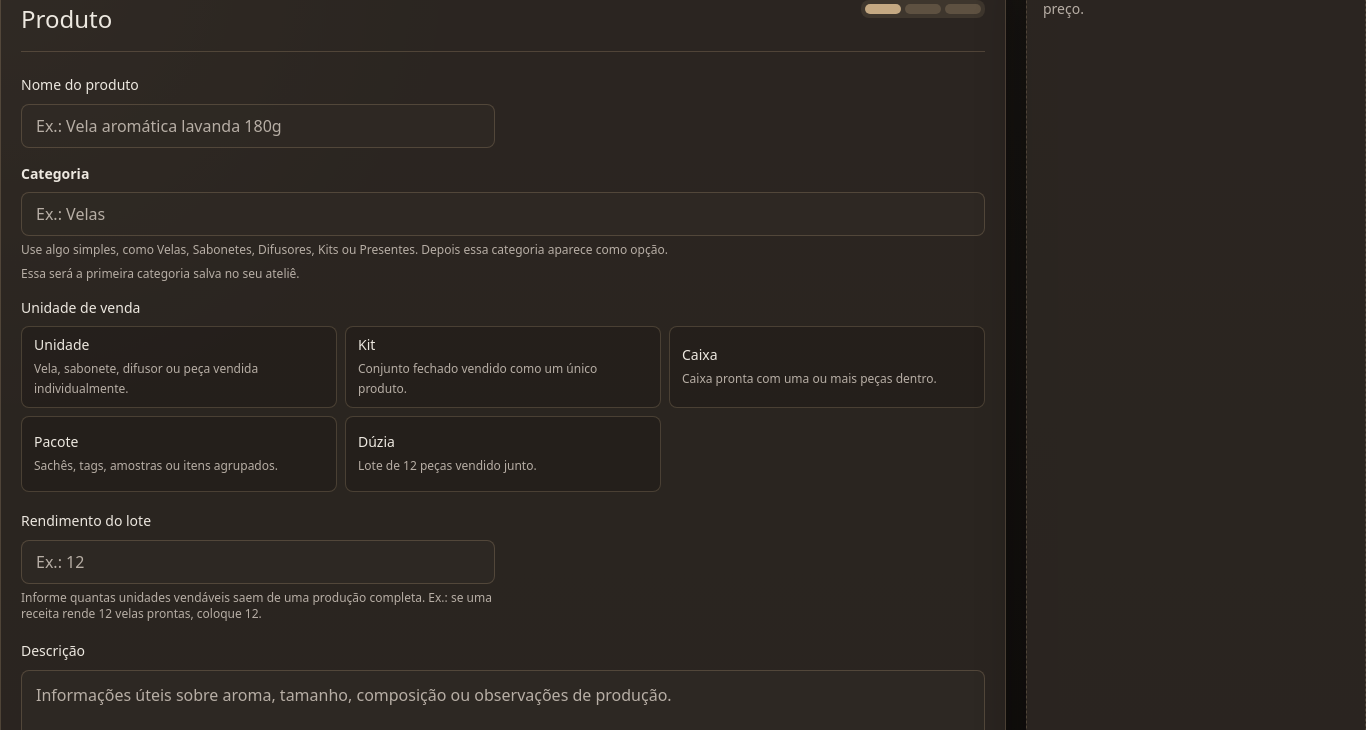
Test: ProductForm › moves from product basics to costs when required fields are complete
Type "Vela teste" into the field labelled "Nome do produto" at (258, 126), box [21,104,495,148]
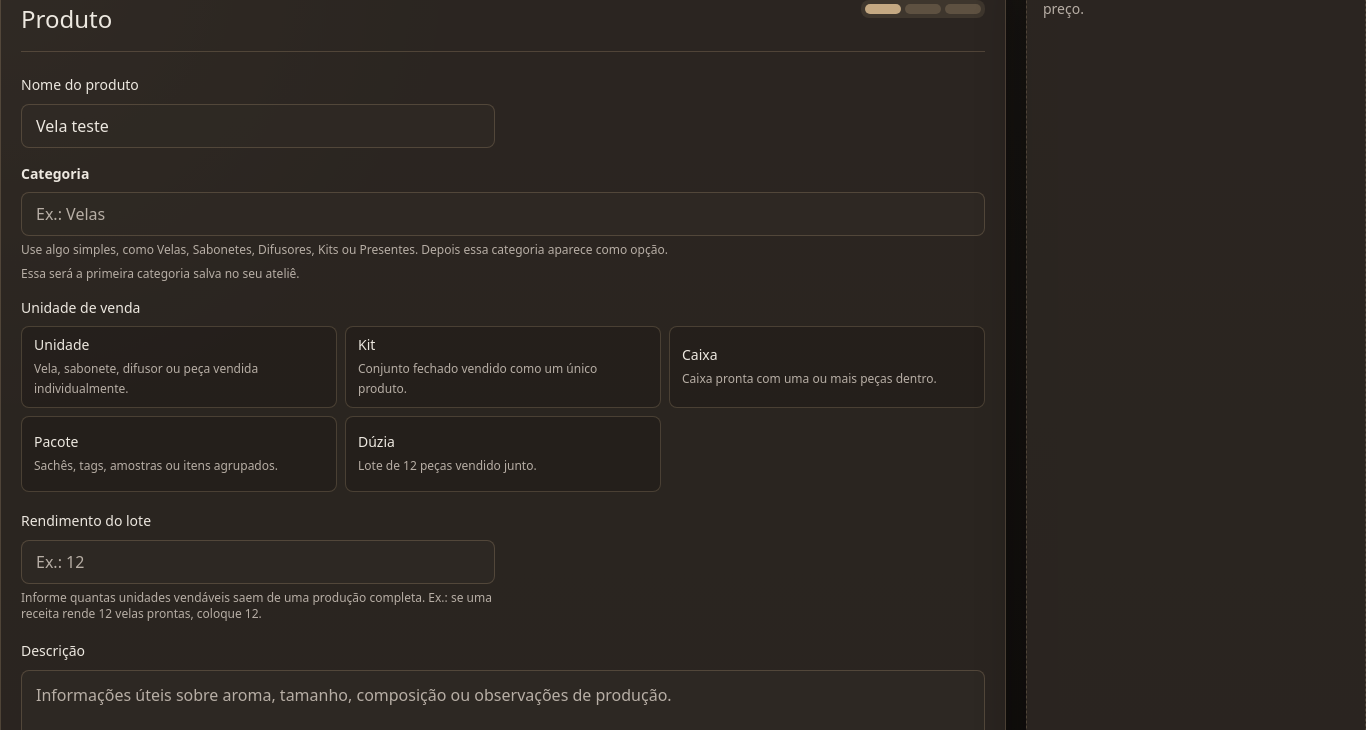
Click the radio button labelled "Unidade" at (179, 367), box [21,326,337,408]
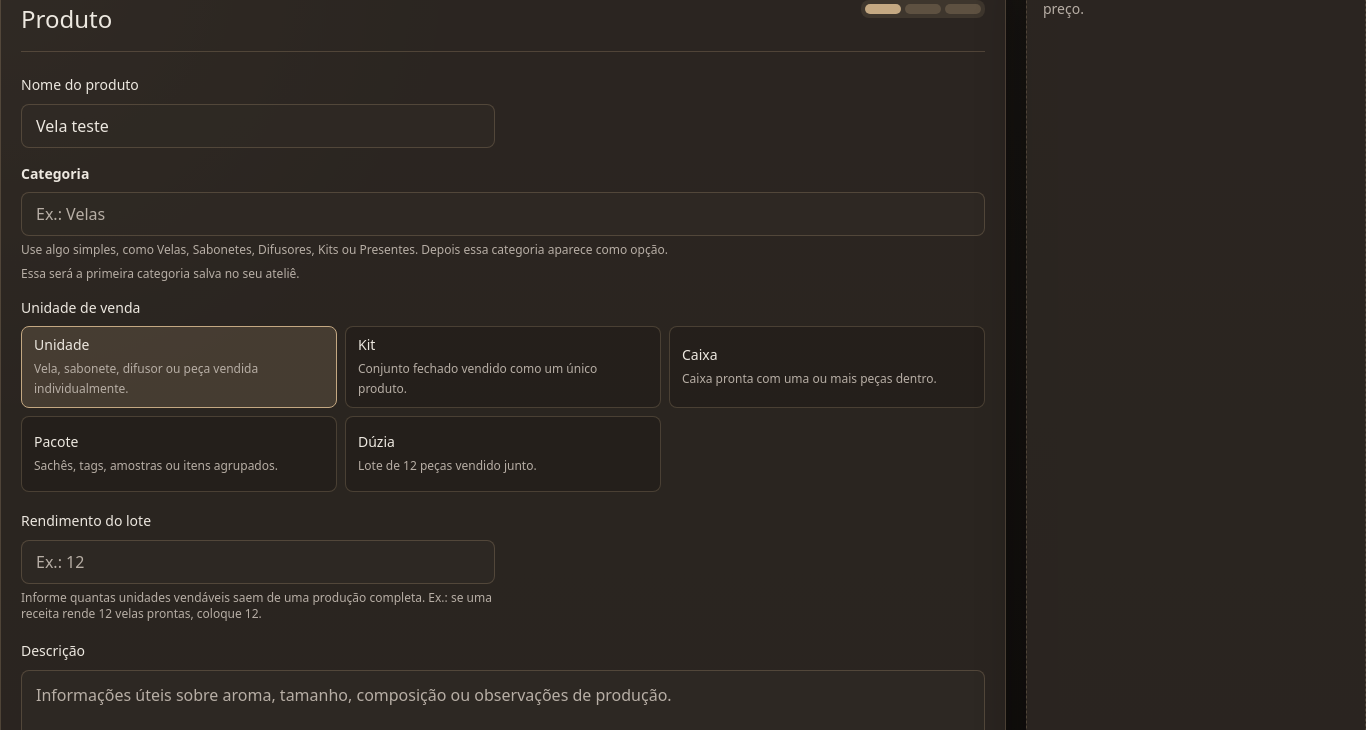
Type "12" into the field with placeholder "Ex.: 12" at (258, 562), box [21,540,495,584]
(page scrolled)
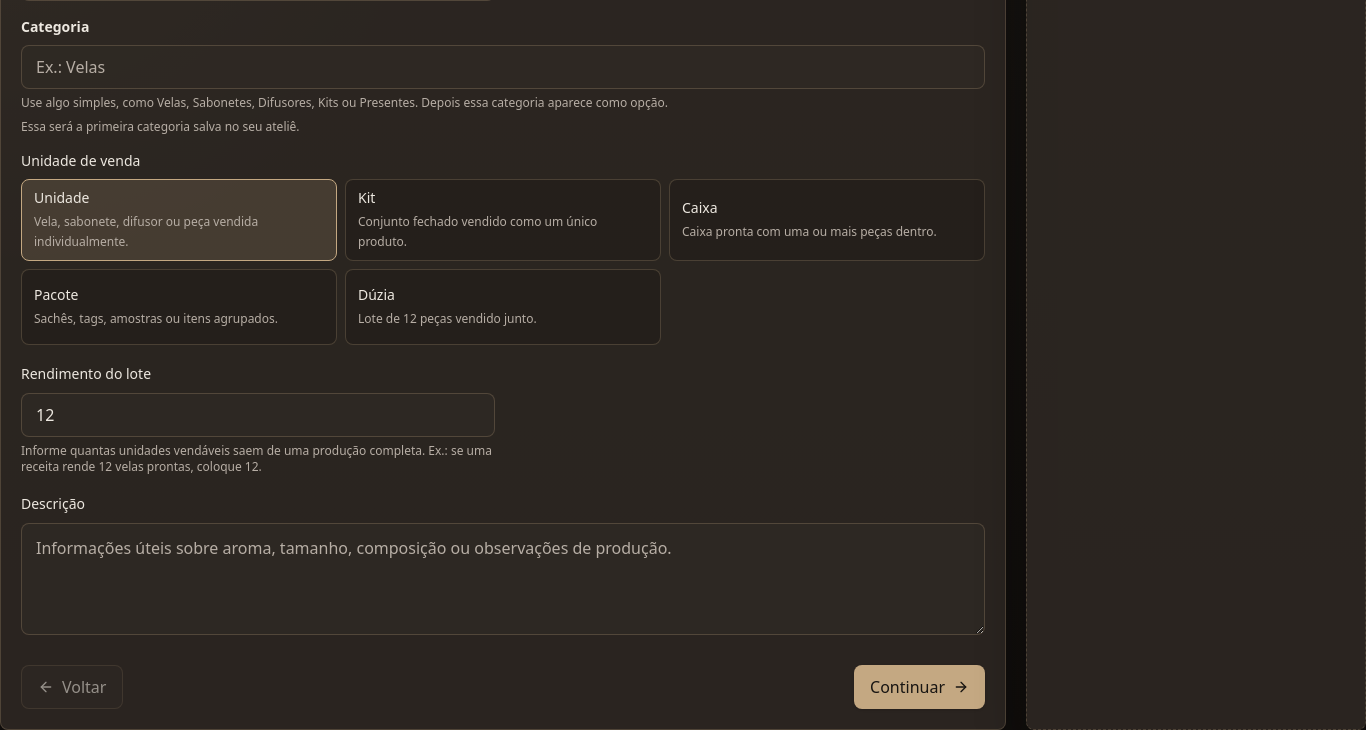
Click the button "Continuar" at (920, 687), box [854,665,985,709]
(page scrolled)
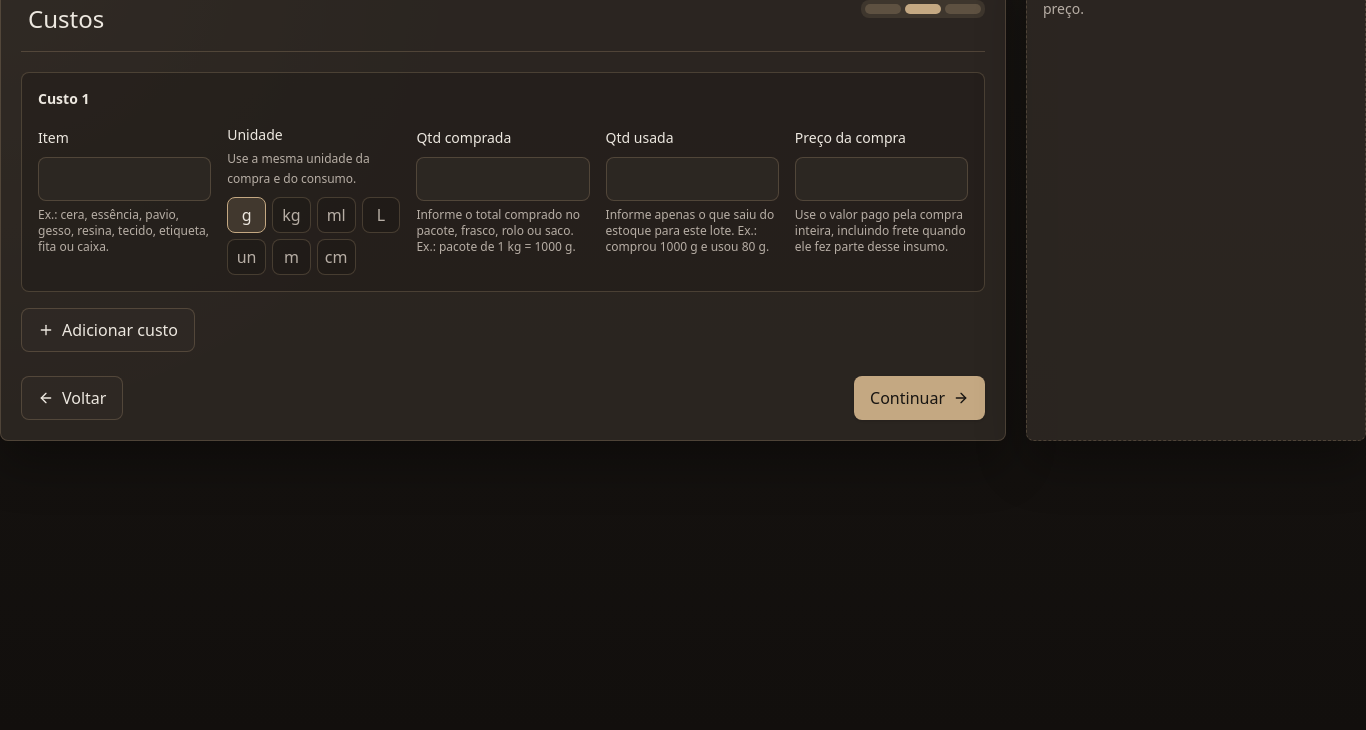
Check: the text "Custo 1" is shown, box [38,89,90,109]
Check: the field labelled "Item" is shown, box [38,157,211,201]
